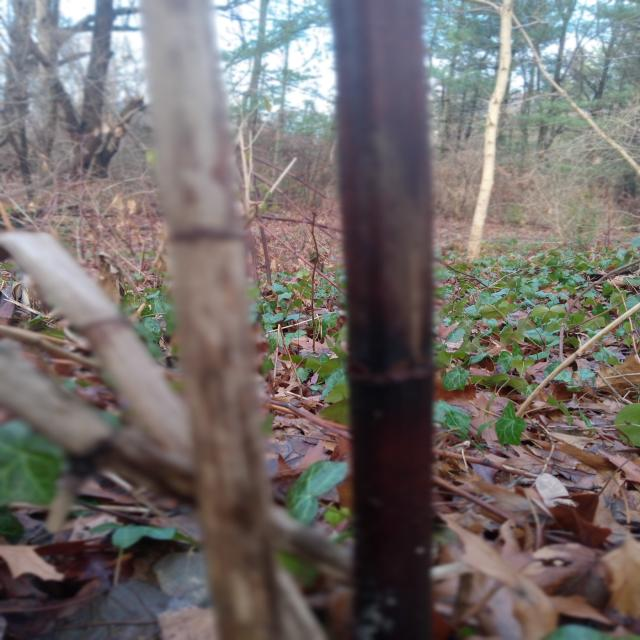knotweed-stems: (136, 1, 327, 638), (326, 1, 438, 638)
tree trunks: (464, 0, 515, 261)
